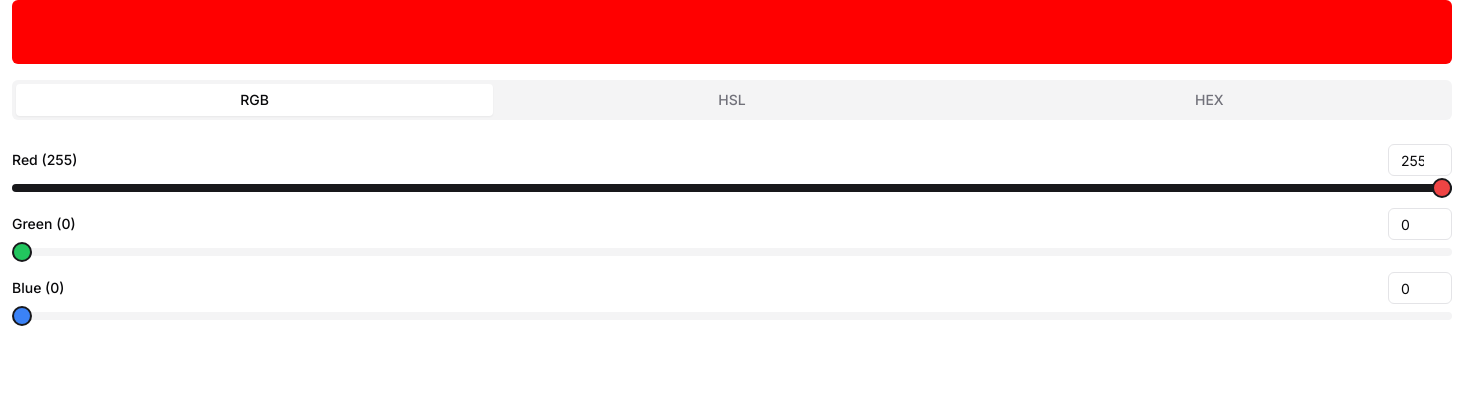
ColorEditor › switches between color modes
The image size is (1464, 415).
// Muda para modo RGB
Click the tab "RGB": (255, 100) [16,84,493,116]
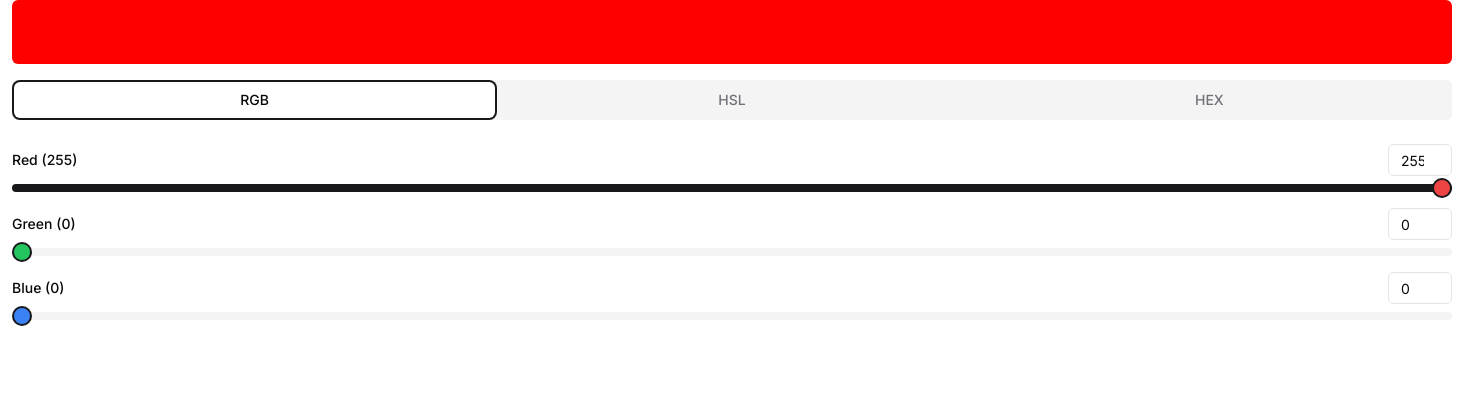
Expected: the text "Red (255)" is shown, [12,153,77,167]
// Muda para modo HSL
Click the tab "HSL": (732, 100) [493,84,971,116]
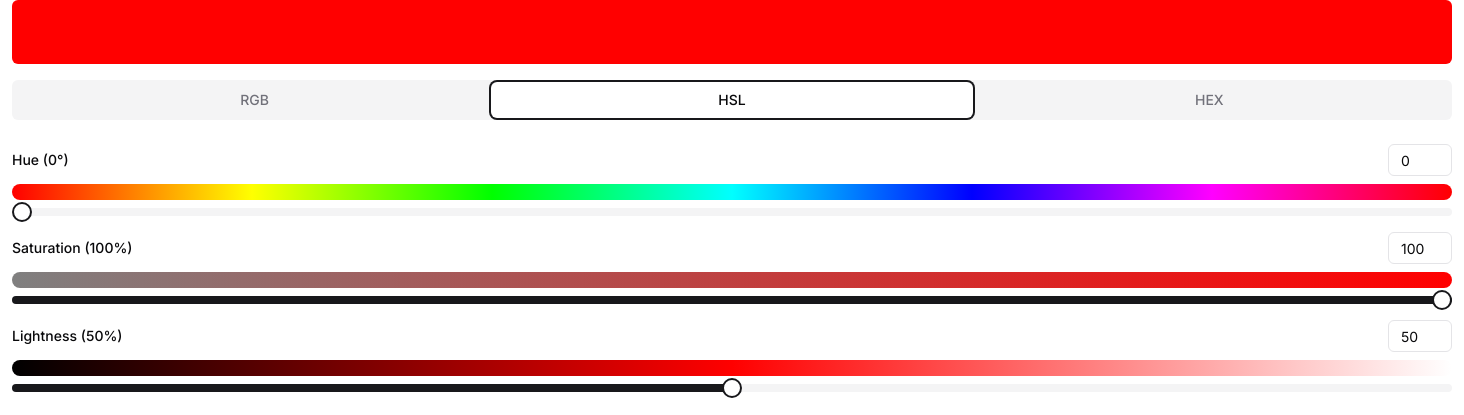
Now the text "Hue (0°)" is shown, box [12,153,69,167]
